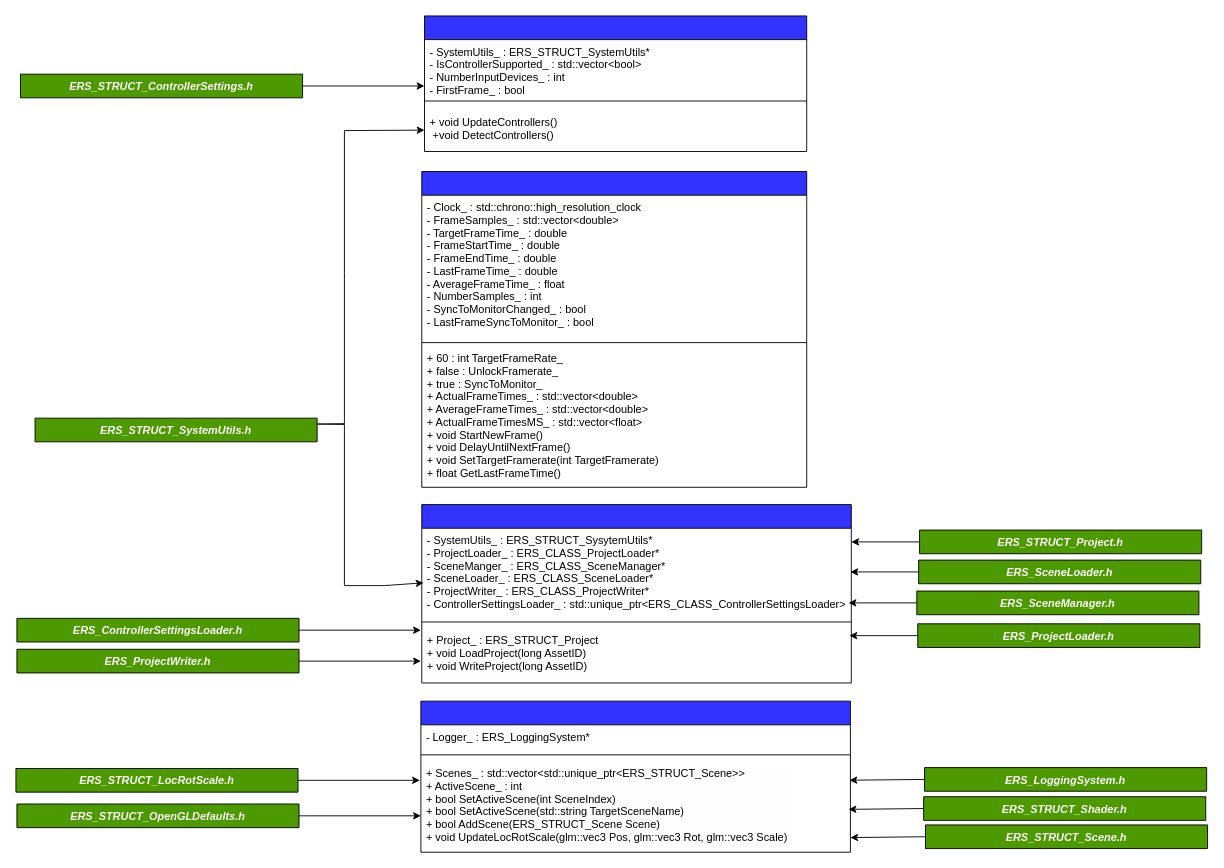
The diagram is 1224 pixels wide and 868 high, and some of its shapes have lost their labels. Here are the shapes that lost their labels. From the top down, the box of each, then its label:
(424, 15, 807, 152): ERS_ControllerManager
(421, 171, 807, 487): ERS_FramerateManager
(421, 504, 851, 683): ERS_ProjectManager
(420, 700, 850, 852): ERS_SceneManager
